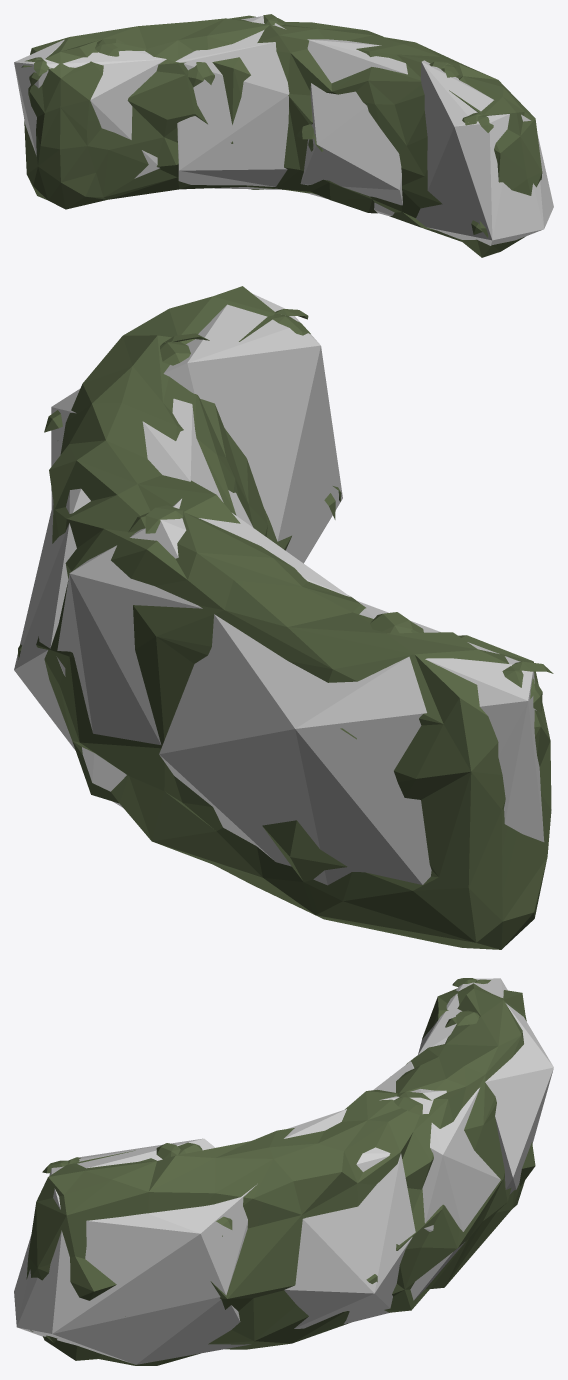
Rendered from SM_Env_Hedge_Bush_05.fbx.
3 renders of one model, top to bottom at view 1: azimuth 30°, elevation 25°; view 2: azimuth 150°, elevation 25°; view 3: azimuth 270°, elevation 25°, orthographic. The views are drawn at different scales.
Visible parts, largest first — view 1: SM_Env_Hedge_Bush_05, SM_Env_Hedge_Bush_05_ConvexHulls; view 2: SM_Env_Hedge_Bush_05, SM_Env_Hedge_Bush_05_ConvexHulls; view 3: SM_Env_Hedge_Bush_05, SM_Env_Hedge_Bush_05_ConvexHulls.
Part boxes in pixels (box(x1,y1,x2,y2)): SM_Env_Hedge_Bush_05: box(21, 14, 542, 257); SM_Env_Hedge_Bush_05_ConvexHulls: box(14, 16, 553, 245); SM_Env_Hedge_Bush_05: box(18, 286, 553, 949); SM_Env_Hedge_Bush_05_ConvexHulls: box(14, 293, 544, 885); SM_Env_Hedge_Bush_05: box(26, 978, 535, 1365); SM_Env_Hedge_Bush_05_ConvexHulls: box(14, 978, 553, 1364).
Bounding box in the file's own units: 320 × 323 × 138.
2 materials, 1 textured.
